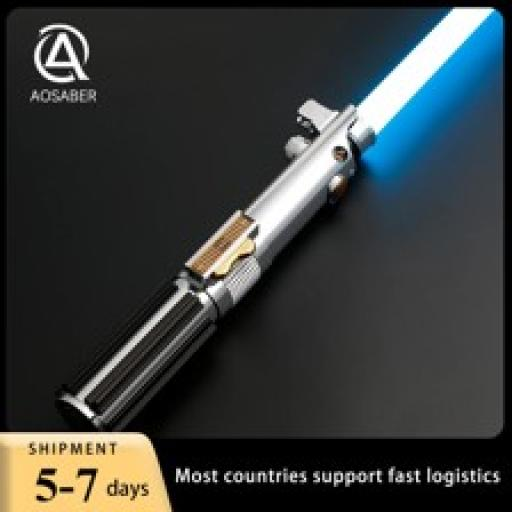lightsaber: (52, 6, 493, 432)
